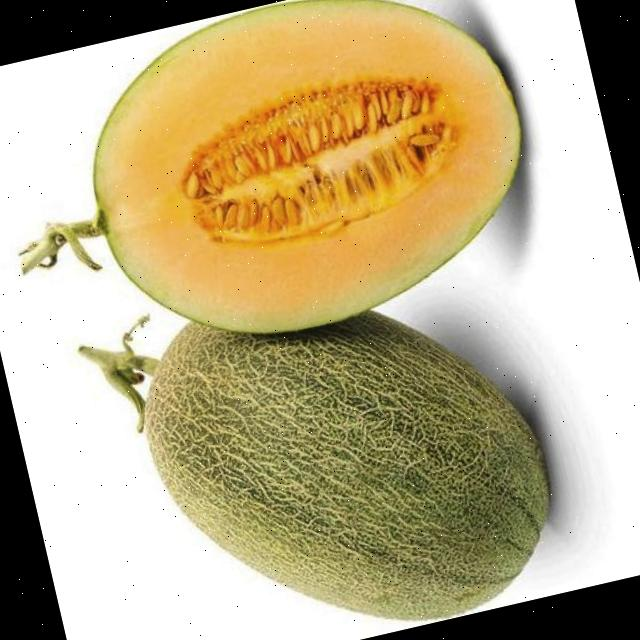Hami Melon: (61, 0, 553, 371), (119, 246, 567, 640)
